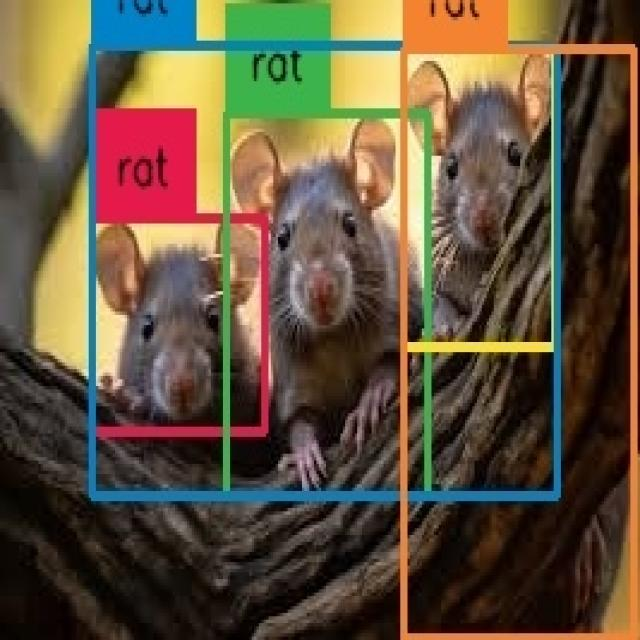rat: (91, 48, 556, 494), (403, 49, 633, 638), (226, 114, 428, 496), (404, 49, 555, 347), (91, 218, 266, 432)
